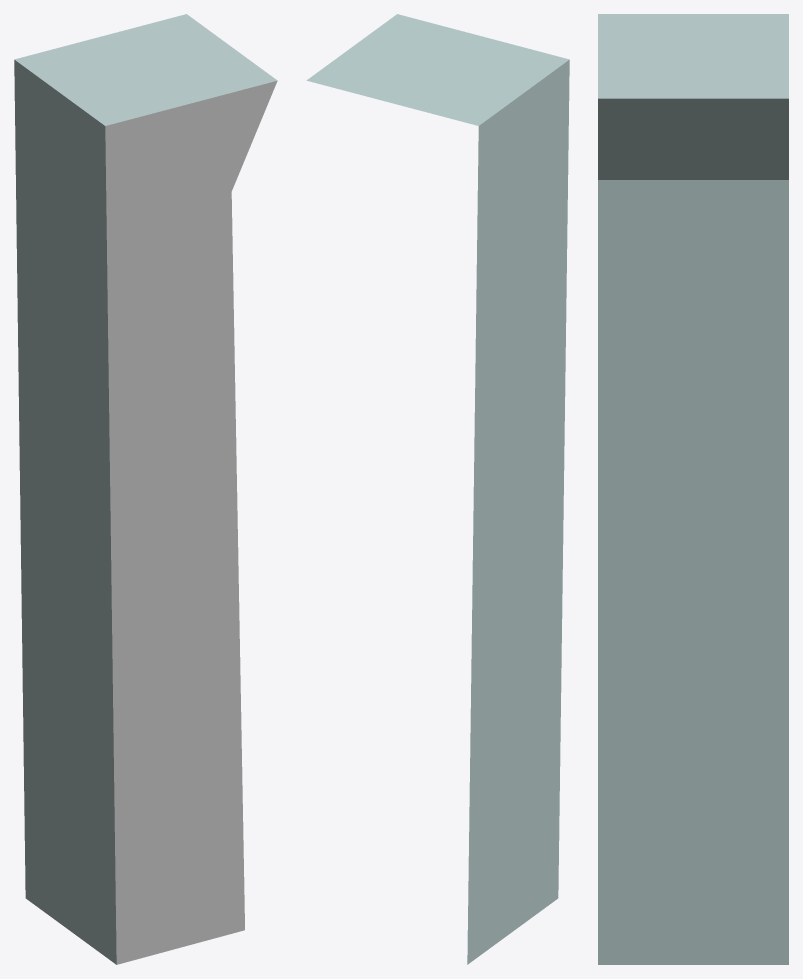
3 views of the same model, side by side, from view 1: azimuth 30°, elevation 25°; view 2: azimuth 150°, elevation 25°; view 3: azimuth 270°, elevation 25° (orthographic). The views are drawn at different scales.
Visible parts, largest first — view 1: 0_3_2_1_2_0_3_3_0; view 2: 0_3_2_1_2_0_3_3_0; view 3: 0_3_2_1_2_0_3_3_0.
Part boxes in pixels (x1,y1,x2,y2): 0_3_2_1_2_0_3_3_0: [14, 14, 277, 964]; 0_3_2_1_2_0_3_3_0: [306, 14, 569, 964]; 0_3_2_1_2_0_3_3_0: [598, 14, 788, 964].
Bounding box in the file's own units: 3.28 × 15.37 × 3.
